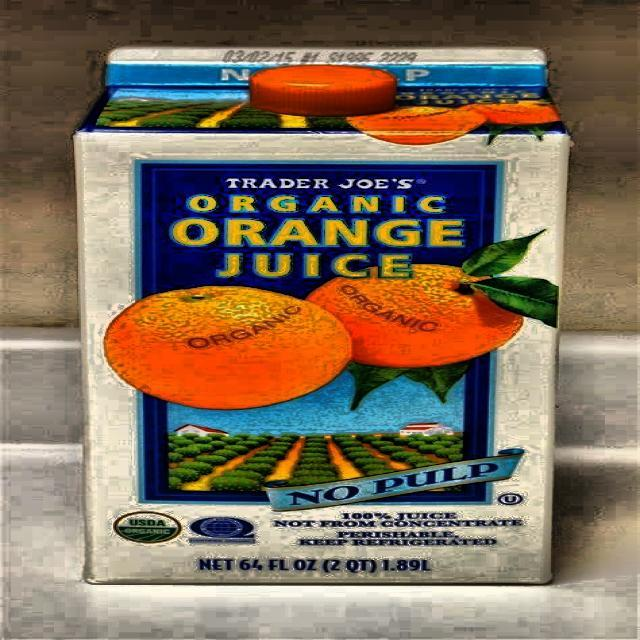cardboard: (73, 46, 570, 586)
